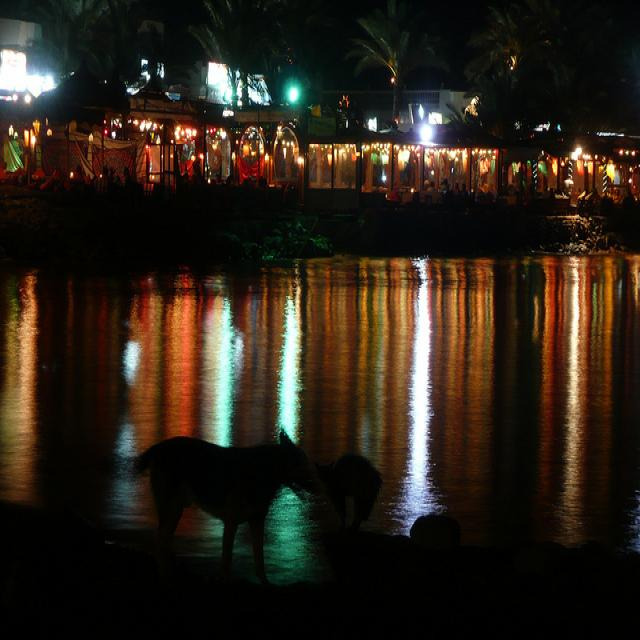Dog: (130, 386, 346, 566)
